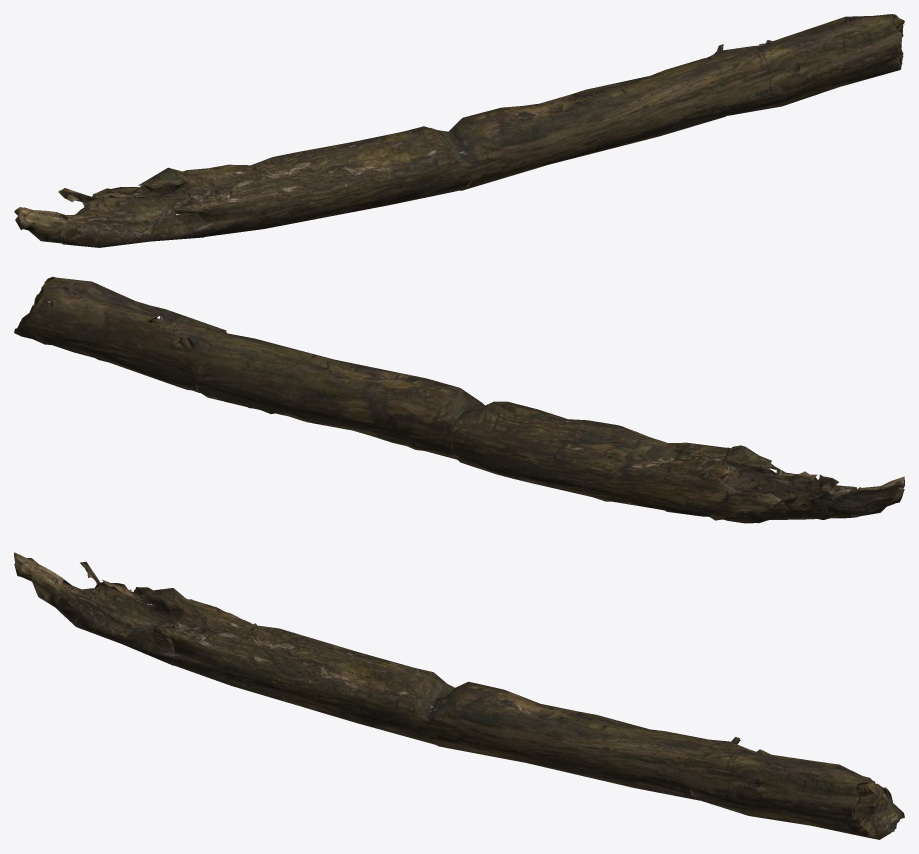
File: dead_tree_trunk.glb
3 views of the same model, one above another, from view 1: azimuth 30°, elevation 25°; view 2: azimuth 150°, elevation 25°; view 3: azimuth 330°, elevation 25° (orthographic).
Visible parts, largest first — view 1: dead_tree_trunk; view 2: dead_tree_trunk; view 3: dead_tree_trunk.
Boxes of the visible parts, <box> form: dead_tree_trunk: <box>14,14,904,247</box>; dead_tree_trunk: <box>14,276,904,523</box>; dead_tree_trunk: <box>14,552,904,839</box>.
Size of the model in its own units: 3.05 by 0.2883 by 0.2775.
Materials: 1 (1 with a texture image).
